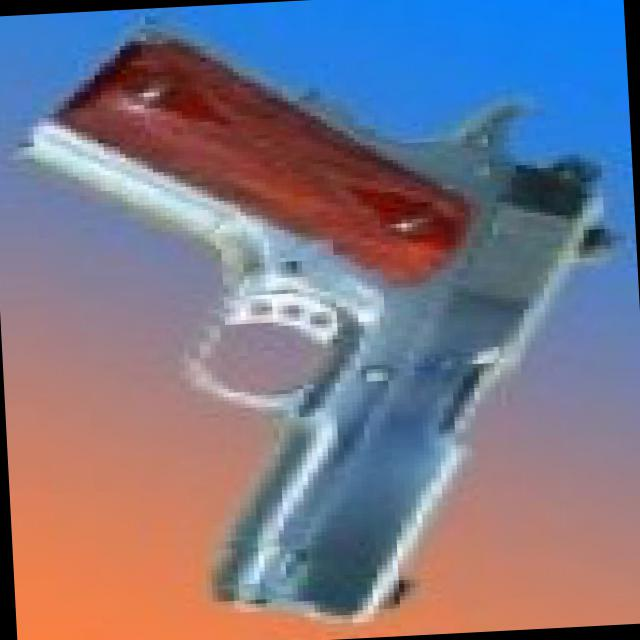handgun: (43, 0, 629, 626)
